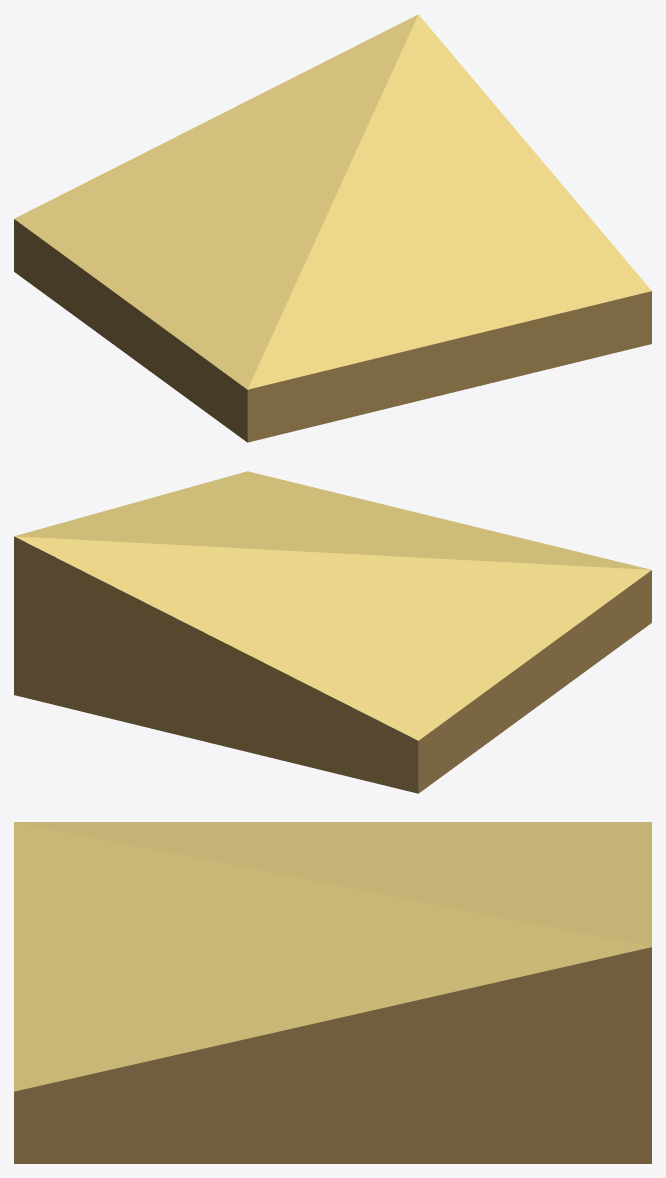
File: Terrain_Tile_Sand_Corner_Ramp_High_01.fbx
3 views of the same model, one above another, from view 1: azimuth 30°, elevation 25°; view 2: azimuth 150°, elevation 25°; view 3: azimuth 270°, elevation 25° (orthographic). The views are drawn at different scales.
Parts seen in each view (by area): view 1: Terrain_Tile_Sand_Corner_Ramp_High_01; view 2: Terrain_Tile_Sand_Corner_Ramp_High_01; view 3: Terrain_Tile_Sand_Corner_Ramp_High_01.
Part boxes in pixels (bbox=[...]): Terrain_Tile_Sand_Corner_Ramp_High_01: bbox=[14, 14, 651, 442]; Terrain_Tile_Sand_Corner_Ramp_High_01: bbox=[14, 471, 651, 793]; Terrain_Tile_Sand_Corner_Ramp_High_01: bbox=[14, 822, 651, 1163].
Bounding box in the file's own units: 126 × 47.24 × 126.
